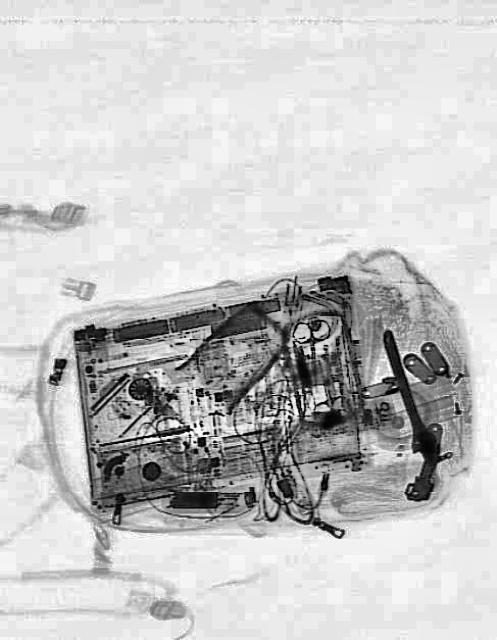Wrench: (370, 325, 444, 473)
